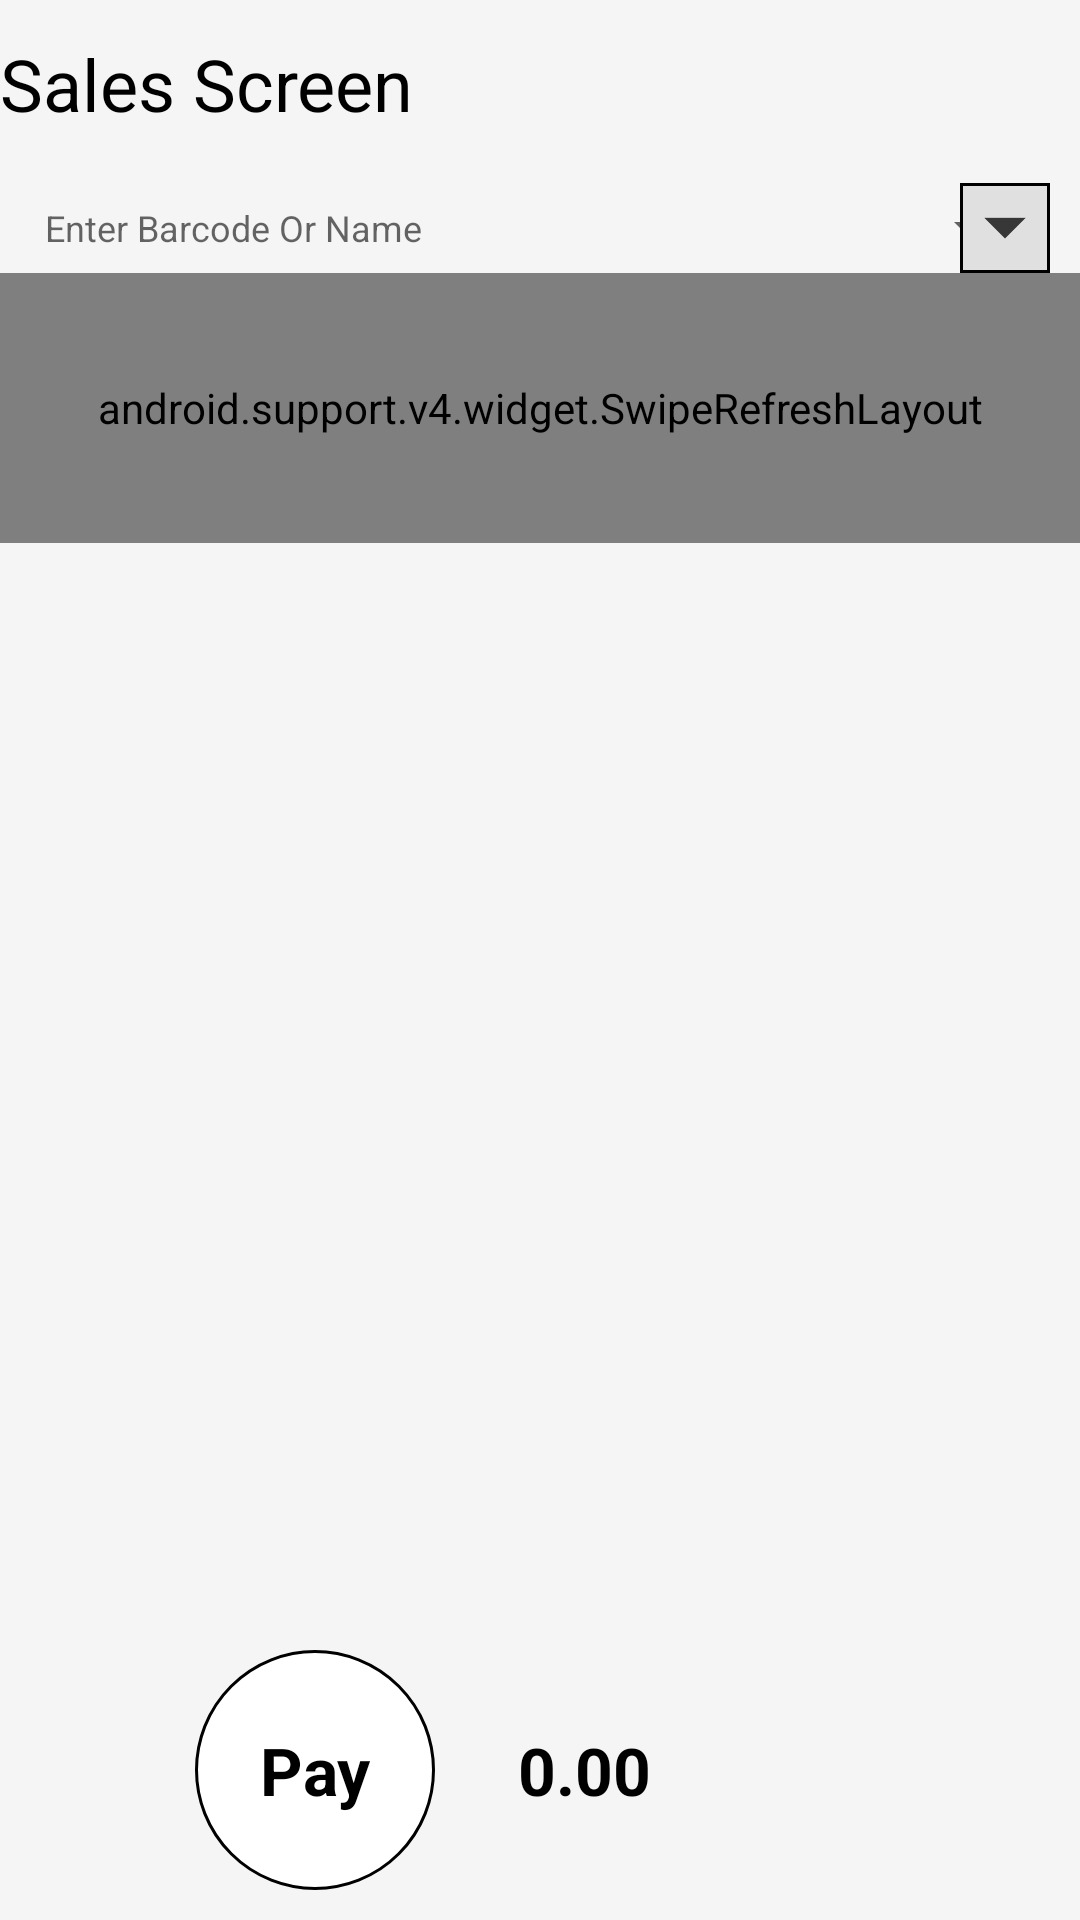

Point at icon controls on the screen. Image size 1080x1920, points as [x,y].
dropdown: [1005,228]
